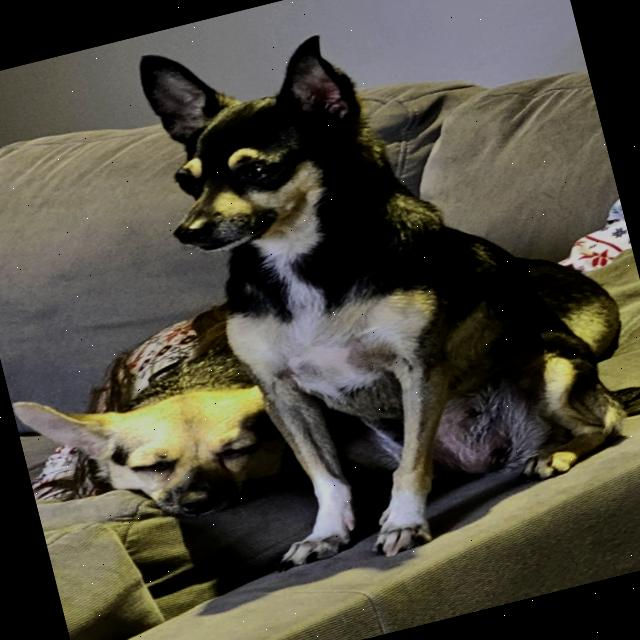chihuahua_dog: (120, 1, 397, 275), (10, 340, 291, 562)
